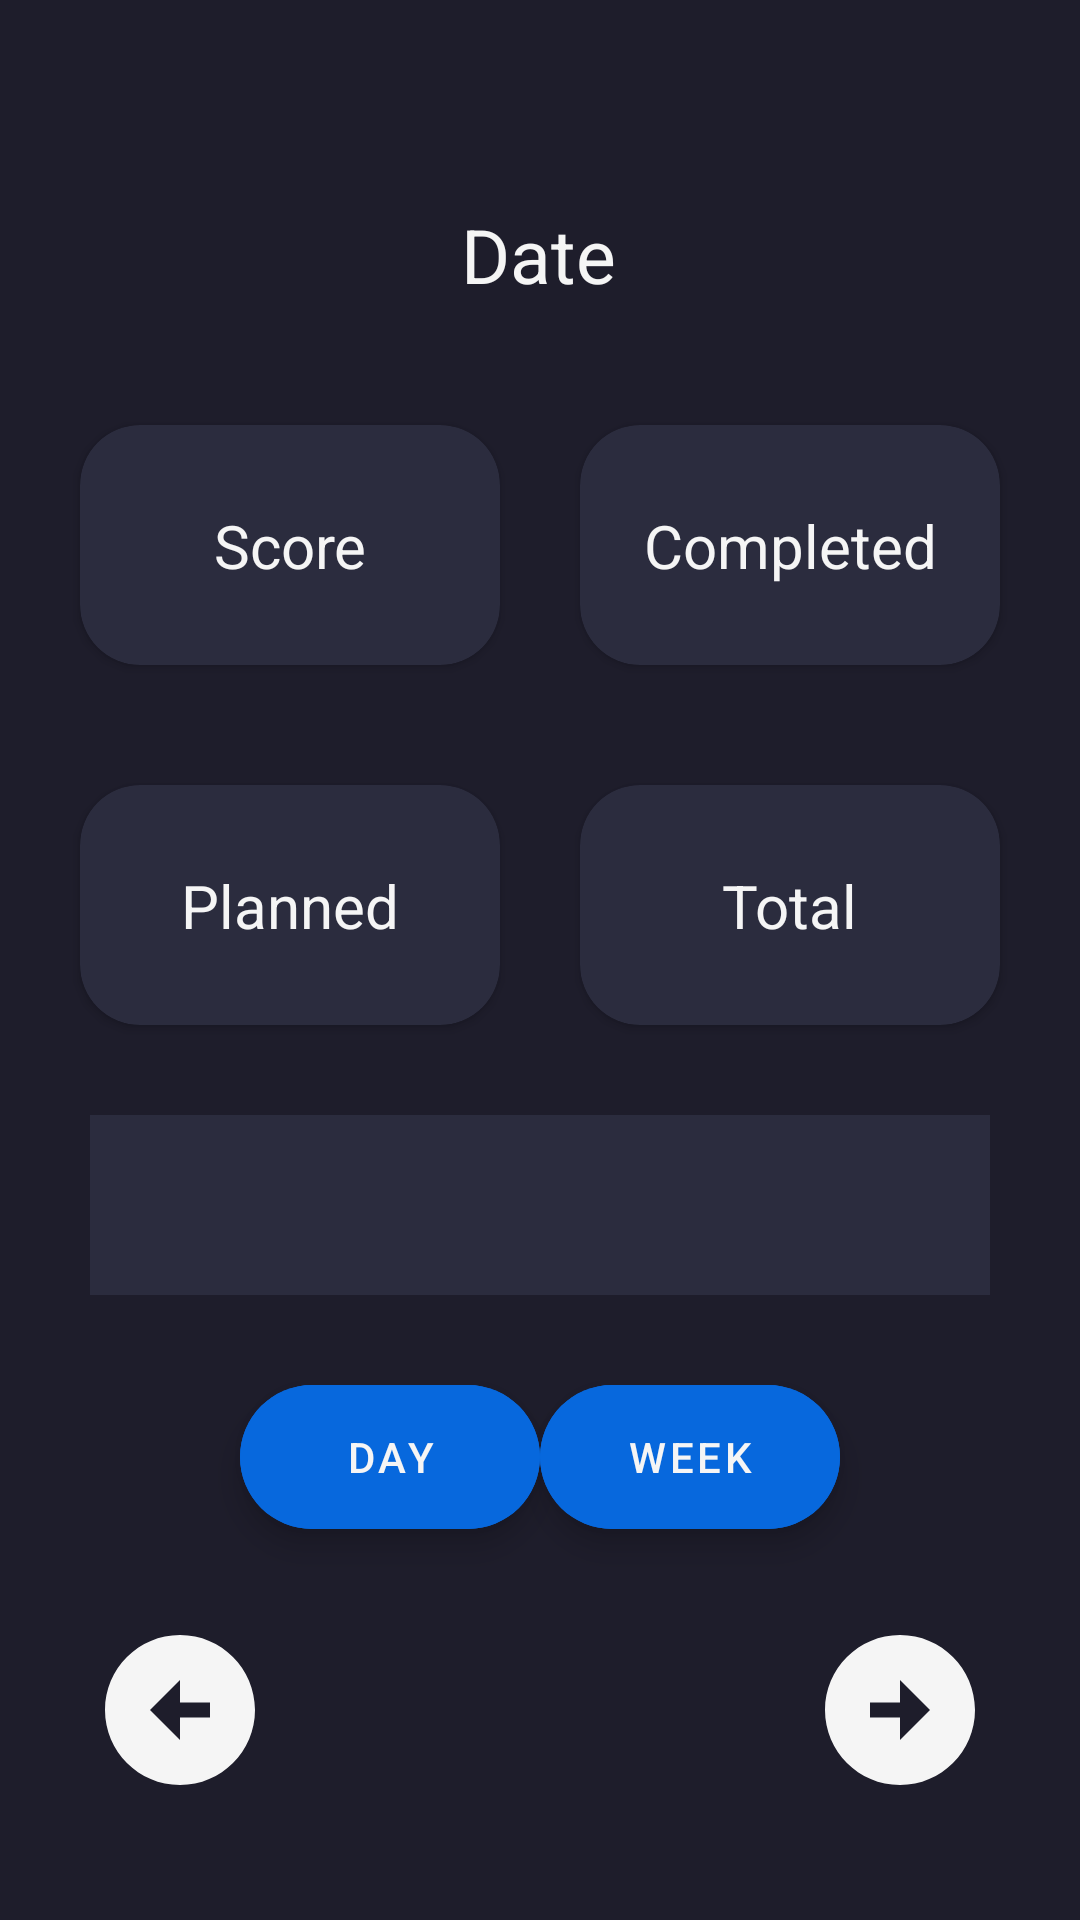

Where to tap for icons on this 1080x1920 app screen, as [x,y]:
arrow circle left: [180,1710]
arrow circle right: [900,1710]
